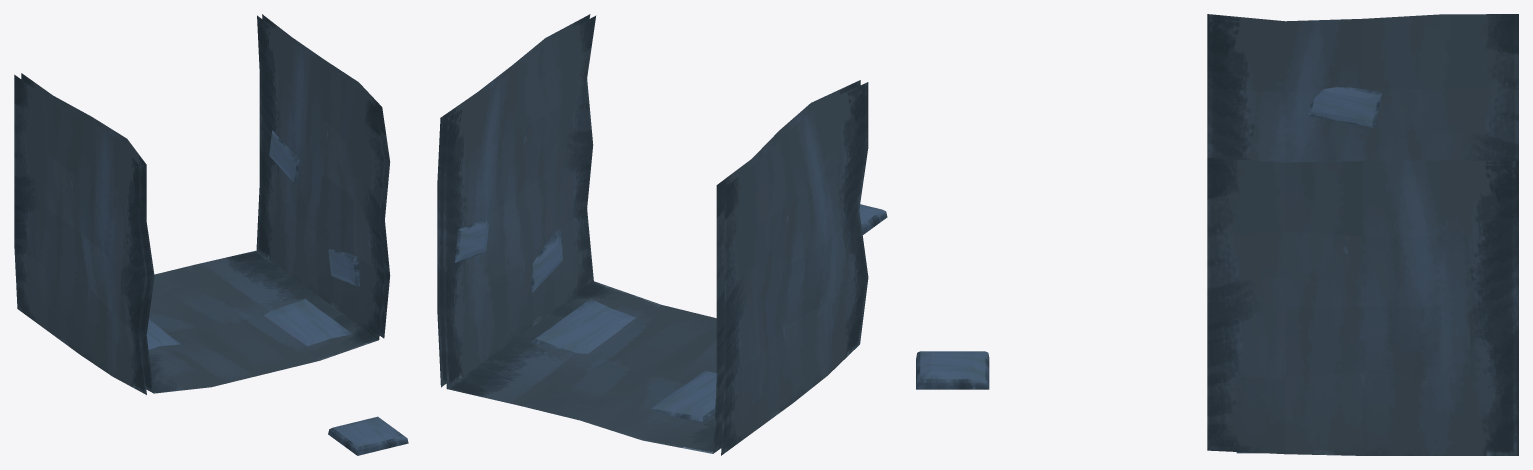
The model's file is stone_dungeon.glb.
3 renders of one model, left to right at view 1: azimuth 30°, elevation 25°; view 2: azimuth 150°, elevation 25°; view 3: azimuth 270°, elevation 25°, orthographic. The views are drawn at different scales.
Parts seen in each view (by area): view 1: Hall Square, Cube.001; view 2: Hall Square, Cube.001; view 3: Hall Square, Cube.001.
Boxes of the visible parts, bbox=[...] form: Hall Square: bbox=[14, 14, 390, 394]; Cube.001: bbox=[328, 416, 408, 455]; Hall Square: bbox=[437, 14, 868, 455]; Cube.001: bbox=[859, 204, 887, 234]; Hall Square: bbox=[1207, 14, 1518, 455]; Cube.001: bbox=[916, 351, 989, 389].
Bounding box in the file's own units: 4.62 × 4.35 × 7.76.
Materials: 1 (1 with a texture image).
